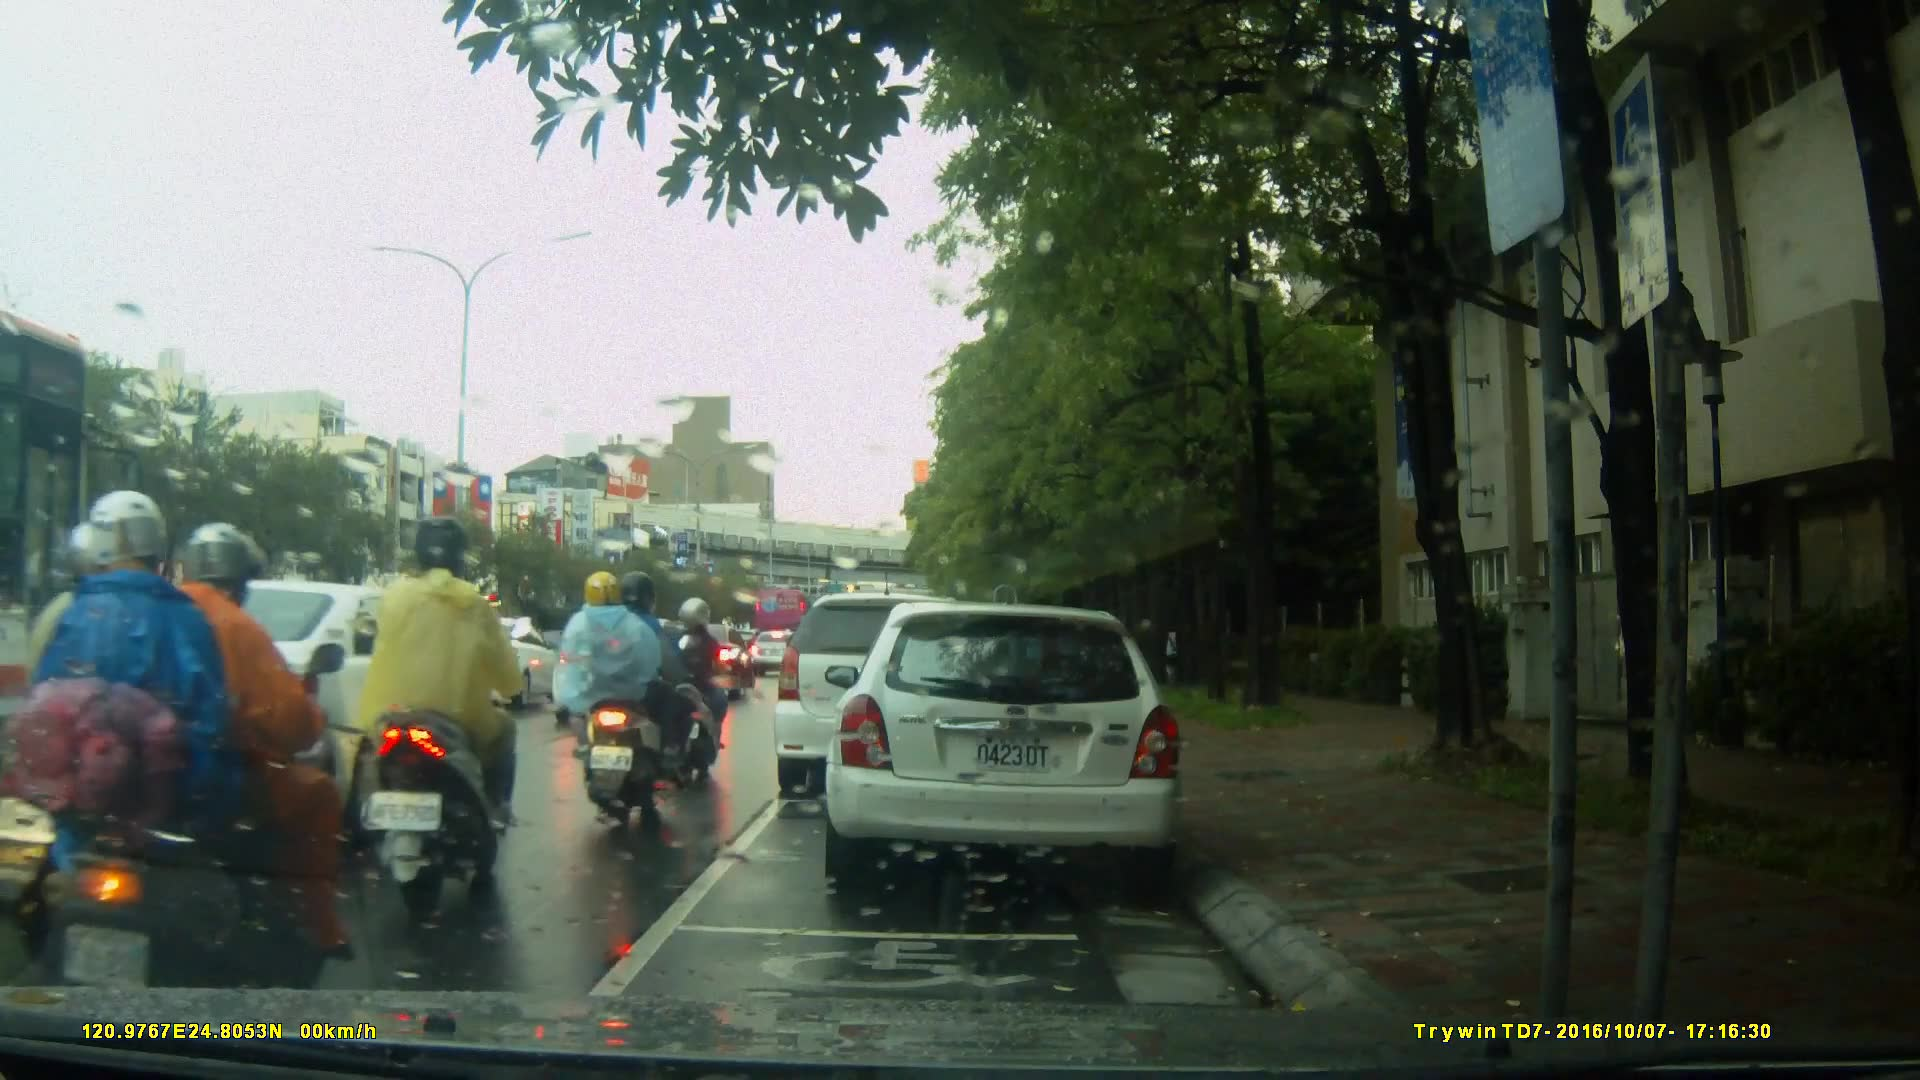rider: (18, 486, 330, 1030), (341, 513, 531, 913), (559, 564, 688, 826), (636, 594, 729, 802)
vehicle: (835, 594, 1194, 898), (56, 577, 476, 830), (776, 590, 1026, 784), (644, 602, 761, 694)
